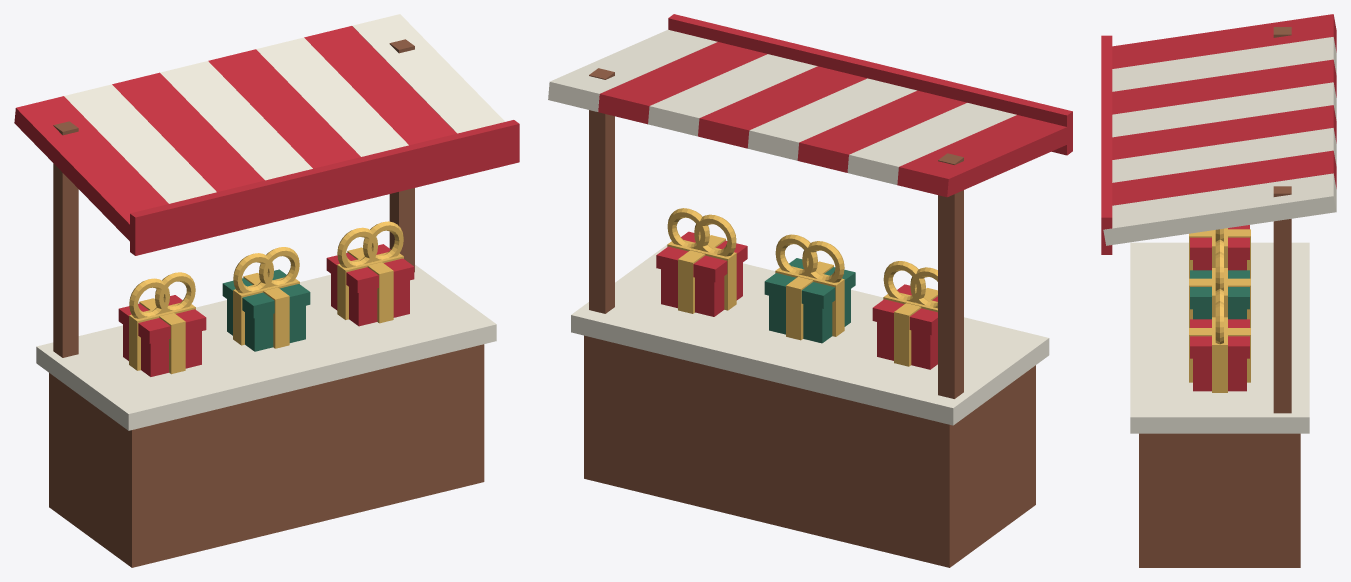
The model's file is giftstall.glb.
The picture shows the model from 3 angles, left to right: view 1: azimuth 30°, elevation 25°; view 2: azimuth 150°, elevation 25°; view 3: azimuth 270°, elevation 25°; orthographic projection. The views are drawn at different scales.
Visible parts, largest first — view 1: gift-market-stall; view 2: gift-market-stall; view 3: gift-market-stall.
Part boxes in pixels (x1=…): gift-market-stall: x1=14, y1=14, x2=519, y2=567; gift-market-stall: x1=548, y1=14, x2=1072, y2=567; gift-market-stall: x1=1101, y1=14, x2=1336, y2=567.
Bounding box in the file's own units: 2.4 × 2.33 × 1.31.
